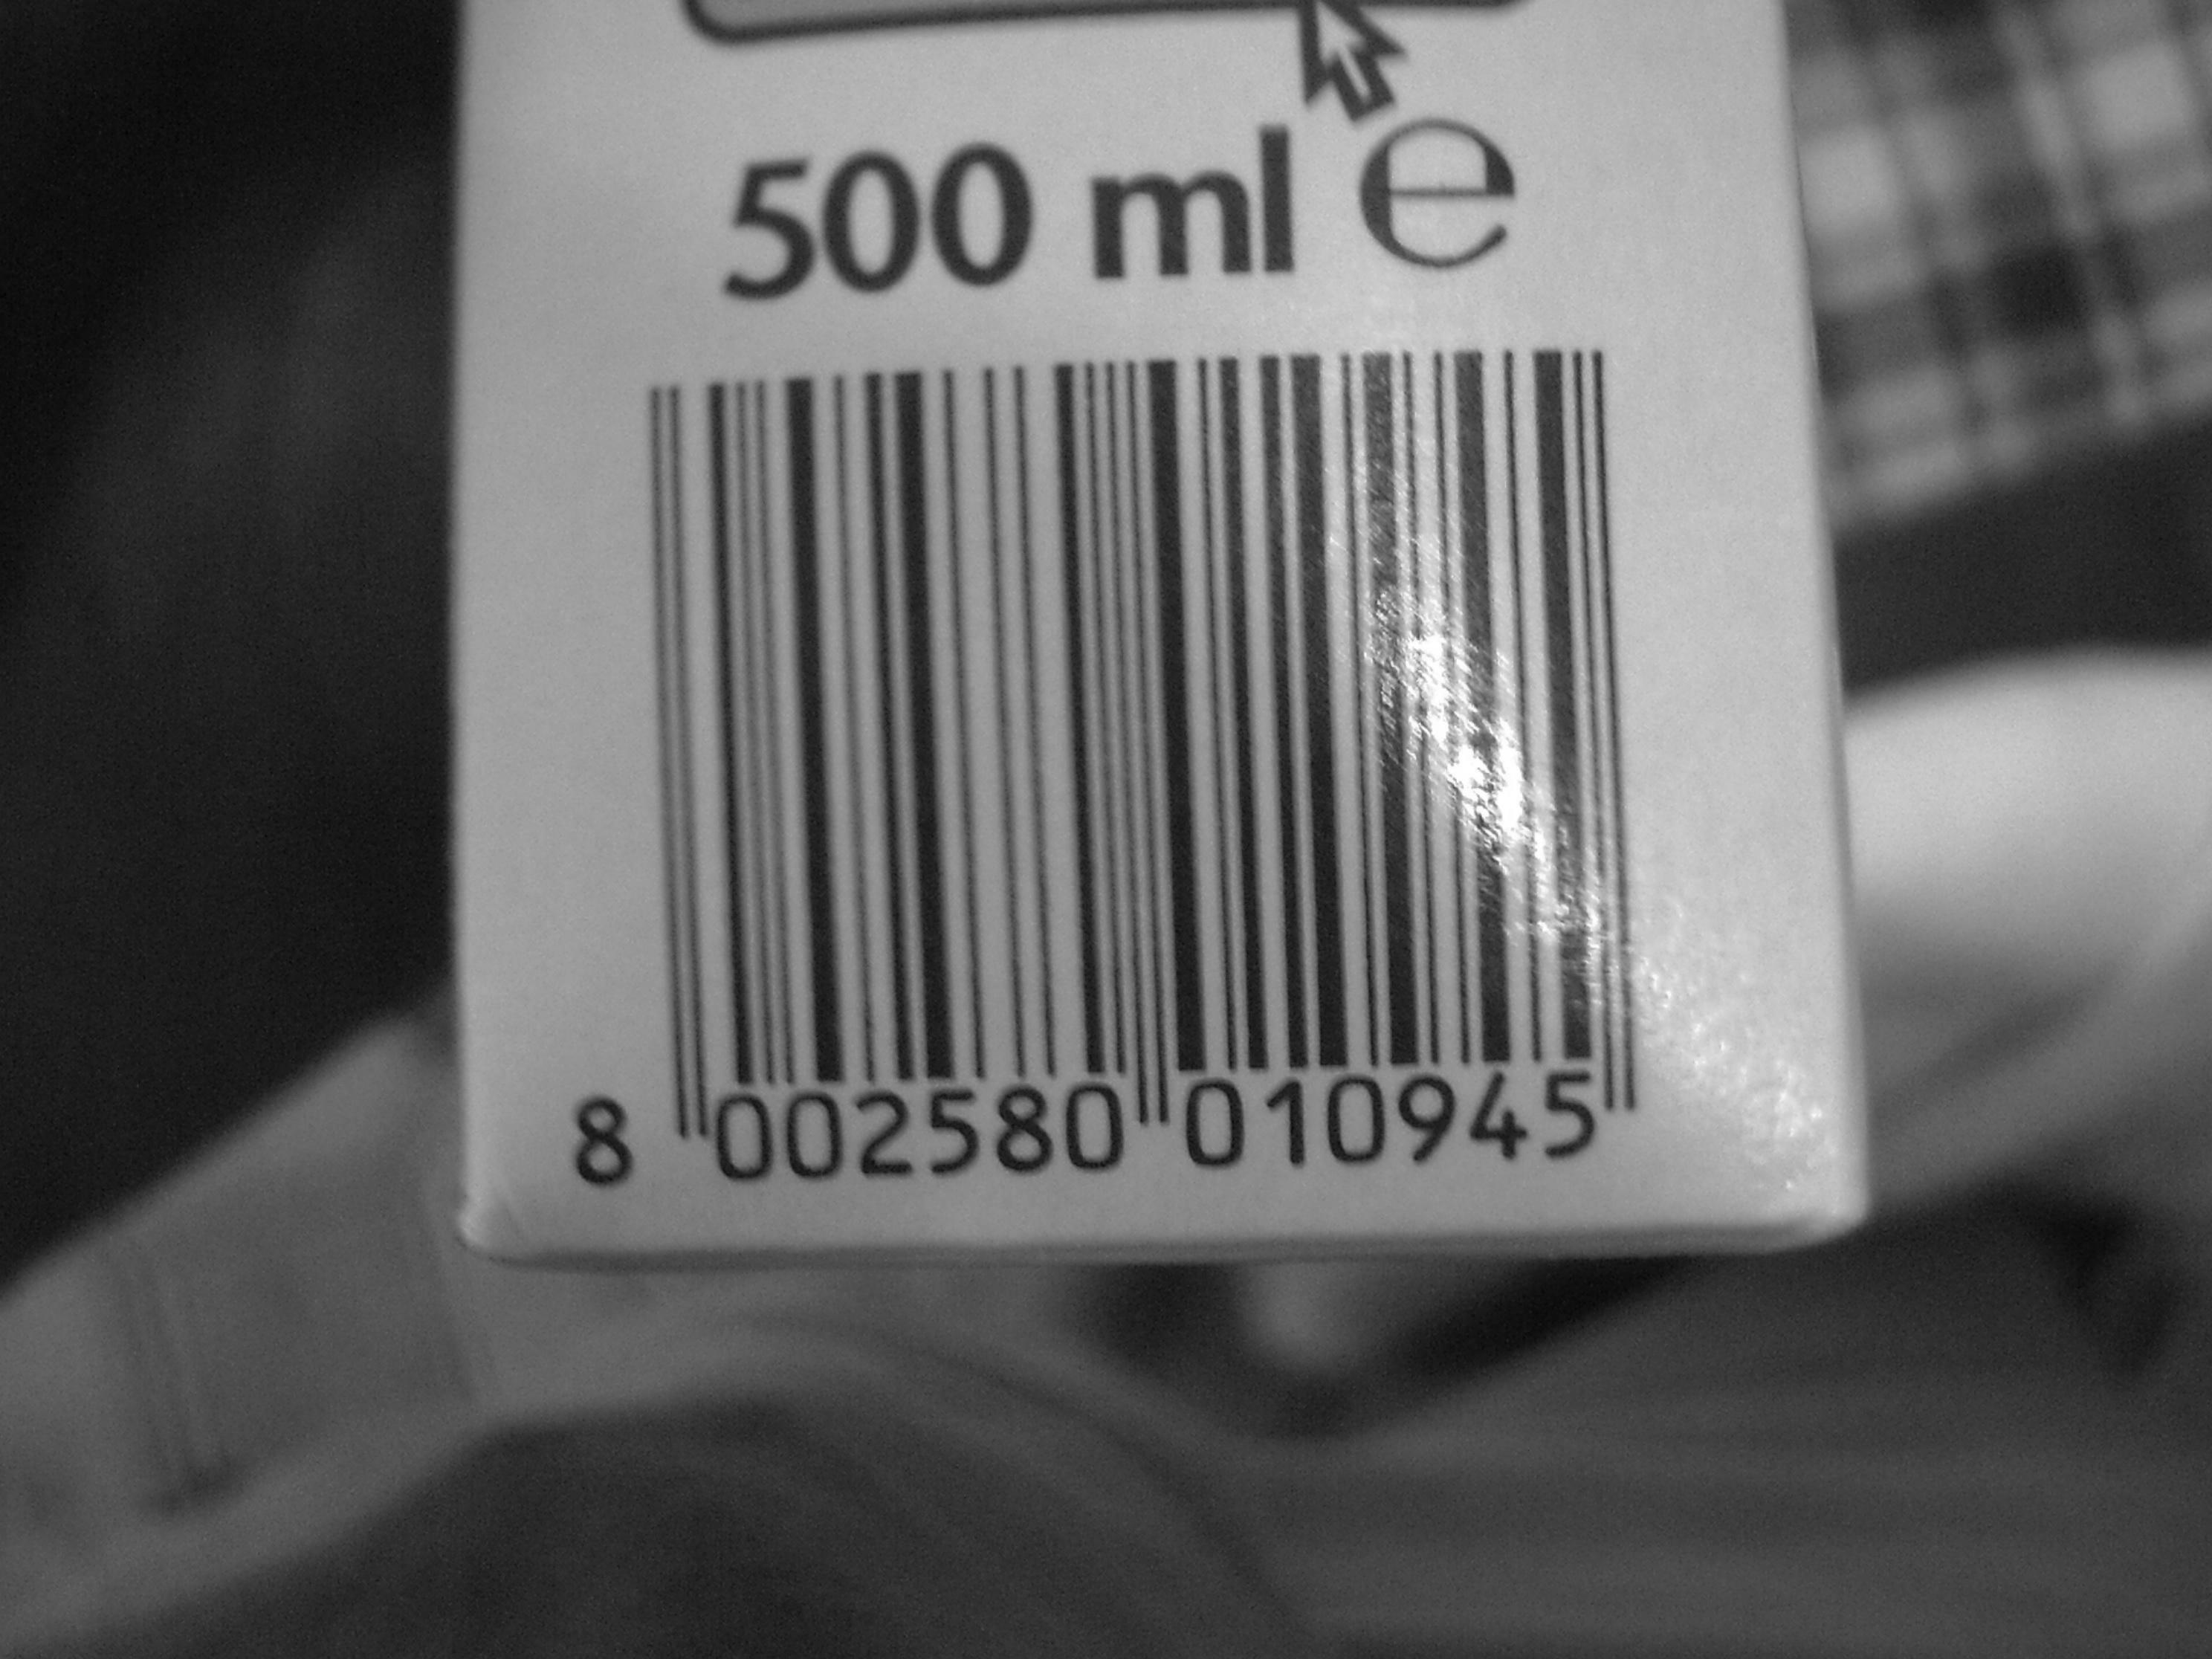Barcode: (612, 400, 1687, 1113)
